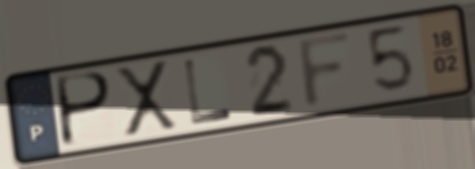2: (242, 41, 297, 120)
5: (361, 21, 419, 97)
F: (294, 27, 357, 115)
L: (180, 56, 236, 128)
P: (56, 69, 116, 151)
X: (111, 57, 182, 141)
